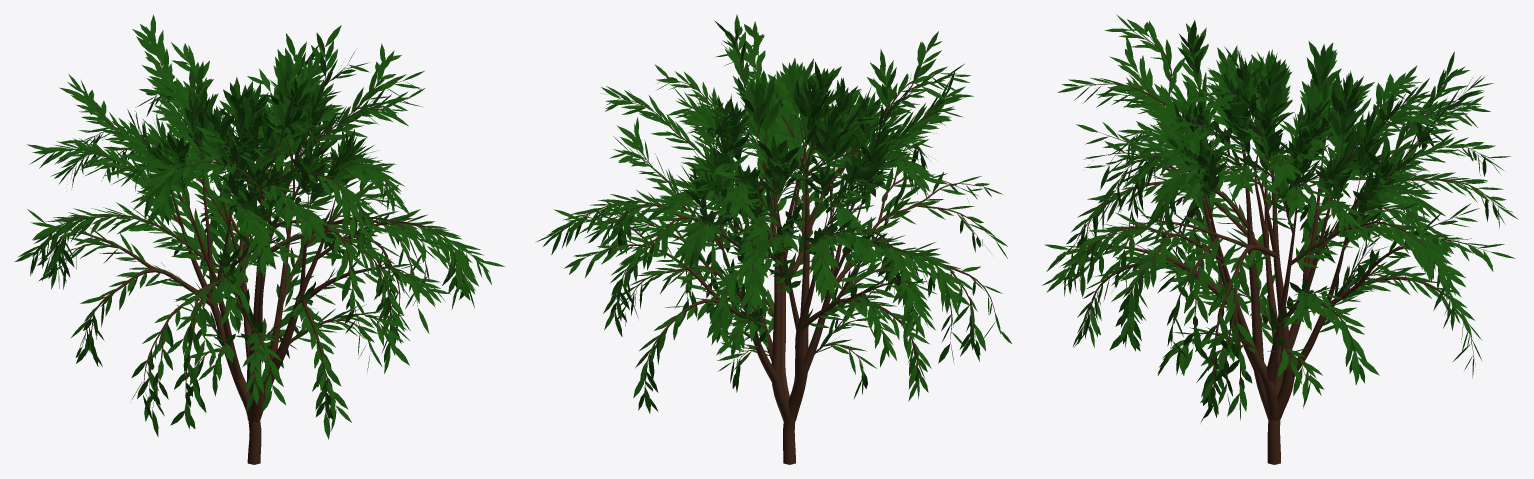
Rendered from tree2.glb.
3 renders of one model, left to right at view 1: azimuth 30°, elevation 25°; view 2: azimuth 150°, elevation 25°; view 3: azimuth 270°, elevation 25°, orthographic. The views are drawn at different scales.
Parts seen in each view (by area): view 1: leaves, tree; view 2: leaves, tree; view 3: leaves, tree.
Boxes of the visible parts, x1,y1,x2,y2 form: leaves: (15,14,504,439); tree: (47,48,480,464); leaves: (535,14,1011,413); tree: (557,40,994,464); leaves: (1042,14,1518,422); tree: (1066,30,1500,464).
Bounding box in the file's own units: 6.03 × 6.29 × 6.25.
